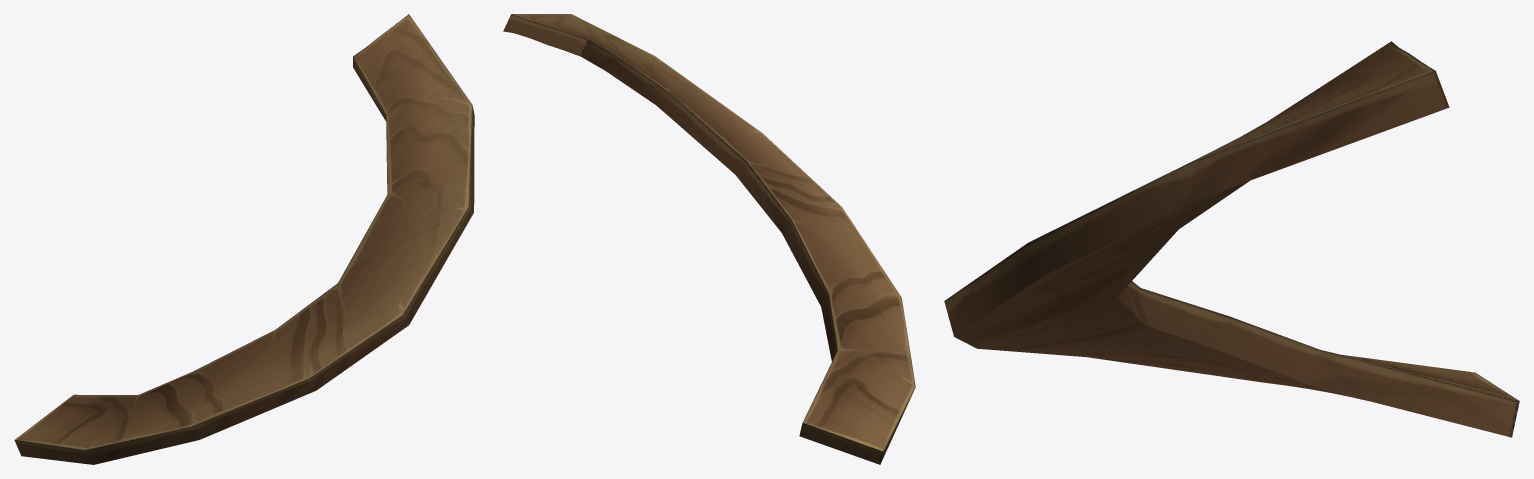
Rendered from middel draaibrugje.FBX.
The picture shows the model from 3 angles, left to right: view 1: azimuth 30°, elevation 25°; view 2: azimuth 150°, elevation 25°; view 3: azimuth 270°, elevation 25°; orthographic projection. The views are drawn at different scales.
Parts seen in each view (by area): view 1: Box011; view 2: Box011; view 3: Box011.
Part boxes in pixels (x1,y1,x2,y2): Box011: (14,14,474,464); Box011: (503,14,915,464); Box011: (944,41,1519,437).
Size of the model in its own units: 43.37 by 37.6 by 27.77.
